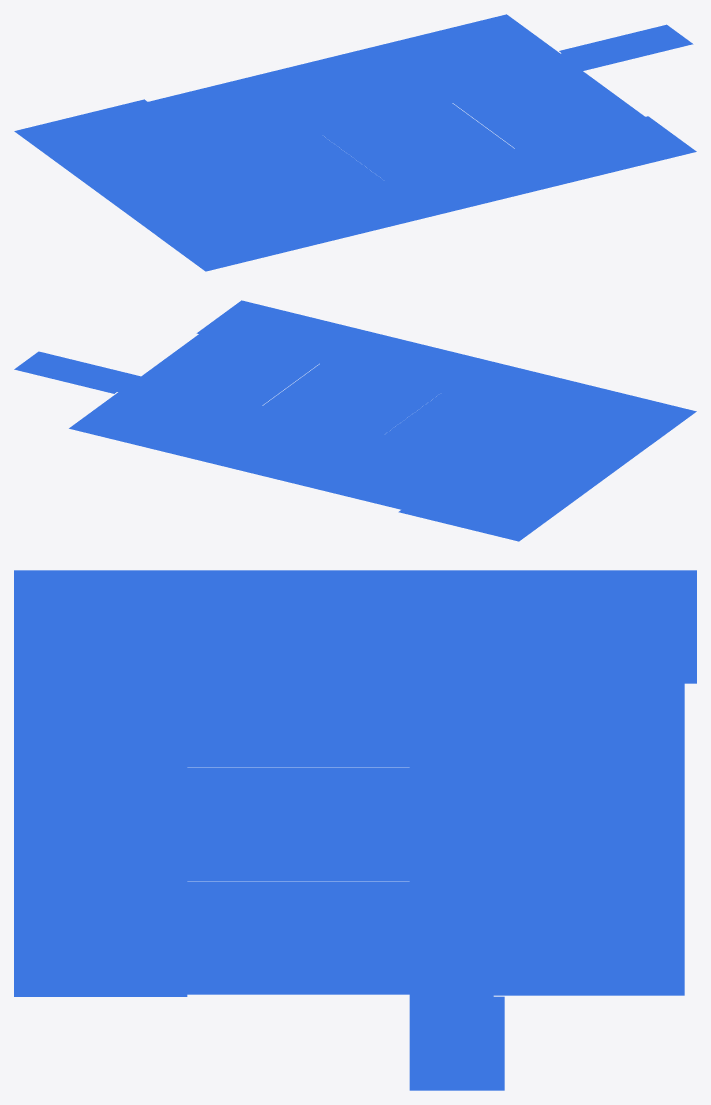
The model's file is 2Floorfloor_low.fbx.
3 views of the same model, one above another, from view 1: azimuth 30°, elevation 25°; view 2: azimuth 150°, elevation 25°; view 3: azimuth 270°, elevation 25° (orthographic). The views are drawn at different scales.
Visible parts, largest first — view 1: Plane2895, Plane2896, Plane2887, Plane2886, Plane2891, Plane2892, Plane2890, Plane2888, Plane2889, Plane2893; view 2: Plane2895, Plane2896, Plane2887, Plane2886, Plane2892, Plane2891, Plane2890, Plane2889, Plane2888, Plane2893; view 3: Plane2895, Plane2896, Plane2887, Plane2886, Plane2891, Plane2892, Plane2890, Plane2889, Plane2888, Plane2893.
Boxes of the visible parts, <box> form: Plane2895: <box>157,116,696,271</box>; Plane2896: <box>14,99,283,235</box>; Plane2887: <box>114,78,321,166</box>; Plane2886: <box>192,135,384,213</box>; Plane2891: <box>453,71,644,148</box>; Plane2892: <box>322,103,514,180</box>; Plane2890: <box>361,14,560,89</box>; Plane2888: <box>298,53,585,134</box>; Plane2889: <box>245,50,414,117</box>; Plane2893: <box>559,24,693,70</box>; Plane2895: <box>196,300,696,444</box>; Plane2896: <box>398,422,651,541</box>; Plane2887: <box>312,436,503,517</box>; Plane2886: <box>383,392,561,464</box>; Plane2892: <box>263,363,440,435</box>; Plane2891: <box>141,334,319,405</box>; Plane2890: <box>69,391,253,461</box>; Plane2889: <box>203,425,361,487</box>; Plane2888: <box>117,376,383,451</box>; Plane2893: <box>14,351,138,393</box>; Plane2895: <box>14,570,187,996</box>; Plane2896: <box>185,570,696,683</box>; Plane2887: <box>409,654,684,767</box>; Plane2886: <box>183,654,409,767</box>; Plane2891: <box>186,881,409,994</box>; Plane2892: <box>186,768,409,880</box>; Plane2890: <box>490,868,684,995</box>; Plane2889: <box>493,767,684,868</box>; Plane2888: <box>409,766,493,996</box>; Plane2893: <box>409,996,504,1090</box>.
Size of the model in its own units: 748 by 0 by 415.
